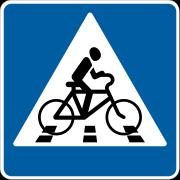Cycle Crossing: (11, 7, 172, 155)
